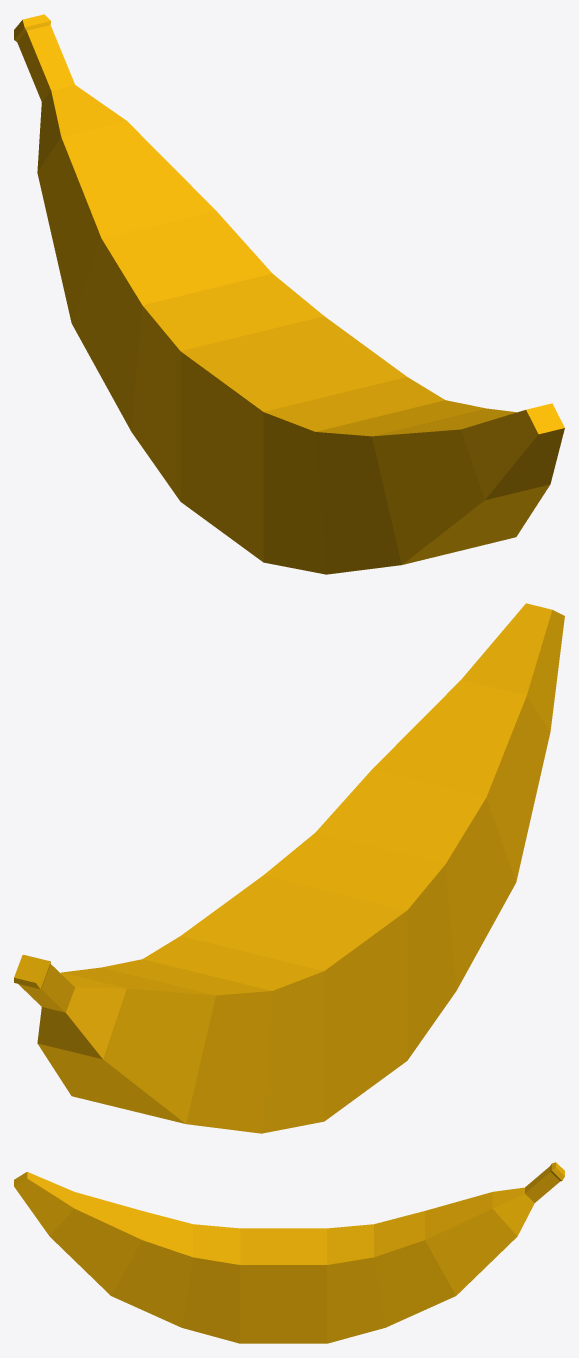
File: Banana_Closed.fbx
3 views of the same model, one above another, from view 1: azimuth 30°, elevation 25°; view 2: azimuth 150°, elevation 25°; view 3: azimuth 270°, elevation 25° (orthographic). The views are drawn at different scales.
Visible parts, largest first — view 1: Cube; view 2: Cube; view 3: Cube.
Boxes of the visible parts, x1,y1,x2,y2 form: Cube: (14, 14, 564, 574); Cube: (14, 603, 564, 1133); Cube: (14, 1162, 564, 1343).
Bounding box in the file's own units: 10.54 × 21.5 × 66.9.
